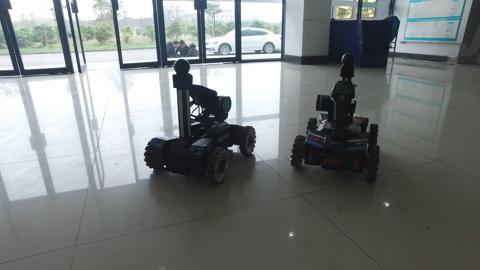chariot: (140, 62, 266, 187), (287, 60, 396, 189)
